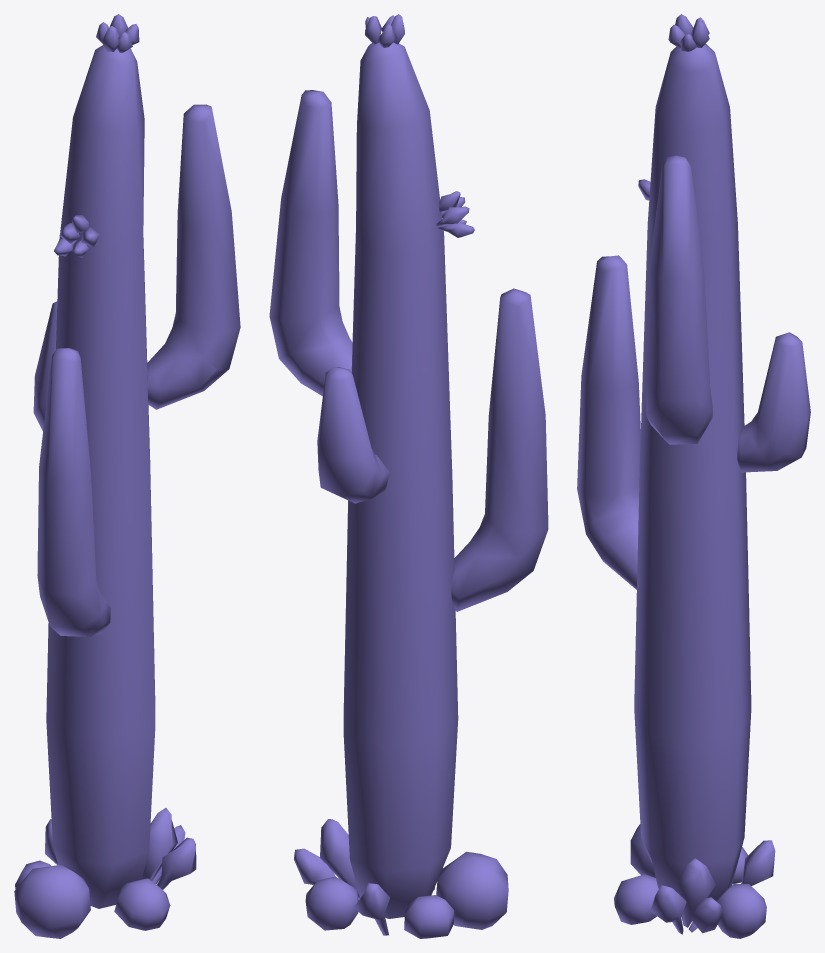
File: Cactus_Tall_01.fbx
3 views of the same model, side by side, from view 1: azimuth 30°, elevation 25°; view 2: azimuth 150°, elevation 25°; view 3: azimuth 270°, elevation 25° (orthographic).
Visible parts, largest first — view 1: Cactus_Tall_01; view 2: Cactus_Tall_01; view 3: Cactus_Tall_01.
Part boxes in pixels (x1,y1,x2,y2): Cactus_Tall_01: [14, 14, 240, 938]; Cactus_Tall_01: [269, 14, 548, 938]; Cactus_Tall_01: [577, 14, 810, 938].
Size of the model in its own units: 84.03 by 314 by 73.67.
